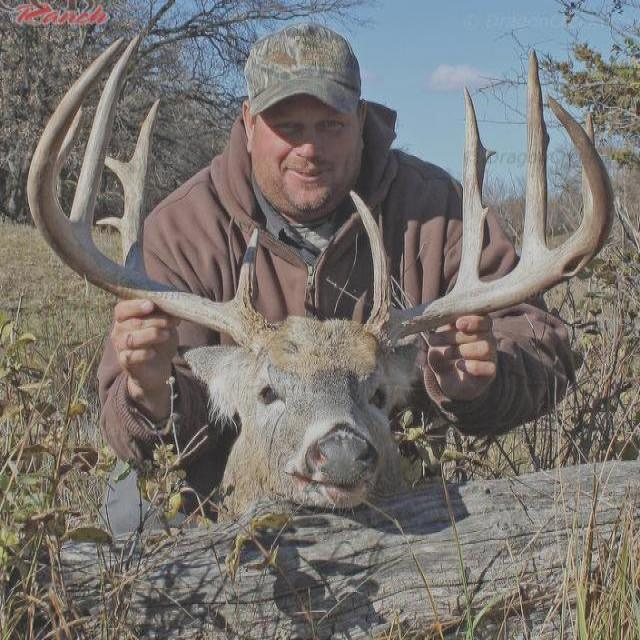deer: (26, 29, 614, 508)
